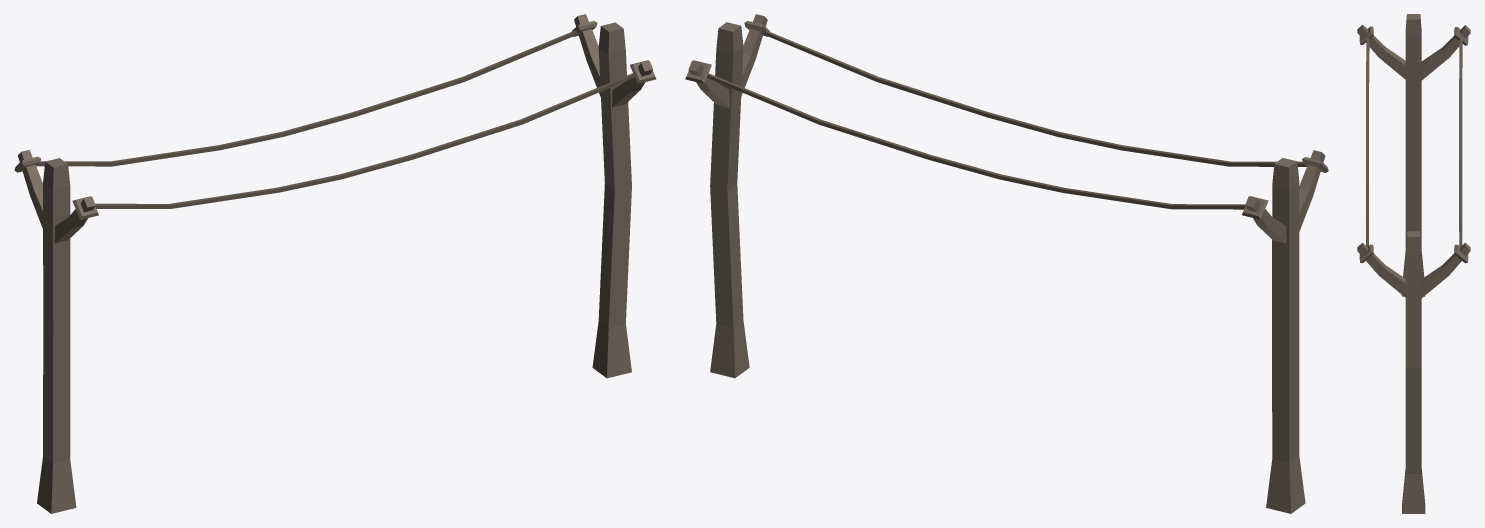
Rendered from clothesline.glb.
The picture shows the model from 3 angles, left to right: view 1: azimuth 30°, elevation 25°; view 2: azimuth 150°, elevation 25°; view 3: azimuth 270°, elevation 25°; orthographic projection. The views are drawn at different scales.
Visible parts, largest first — view 1: Сlothesline; view 2: Сlothesline; view 3: Сlothesline.
Boxes of the visible parts, x1,y1,x2,y2 form: Сlothesline: (14, 14, 656, 513); Сlothesline: (685, 14, 1328, 513); Сlothesline: (1357, 14, 1470, 513).
Size of the model in its own units: 3.38 by 1.9 by 0.7119.
1 material, 1 textured.
